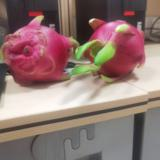pitaya: (5, 17, 77, 85), (74, 19, 146, 81)
